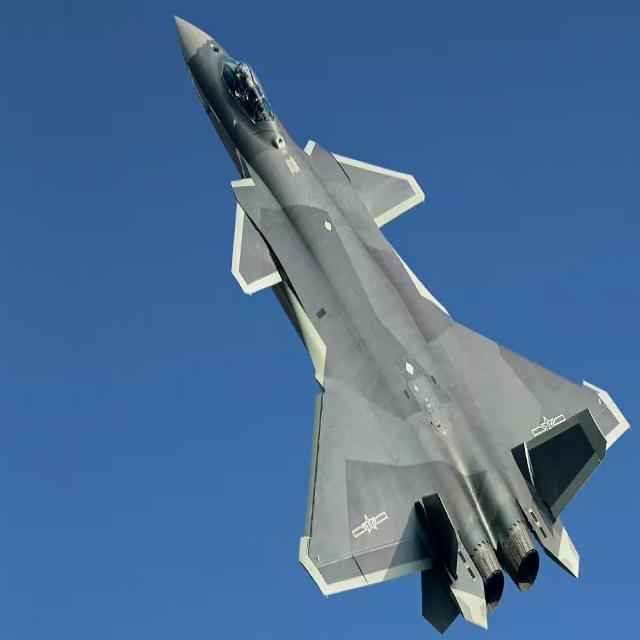MIL_Plane: (173, 14, 632, 635)
